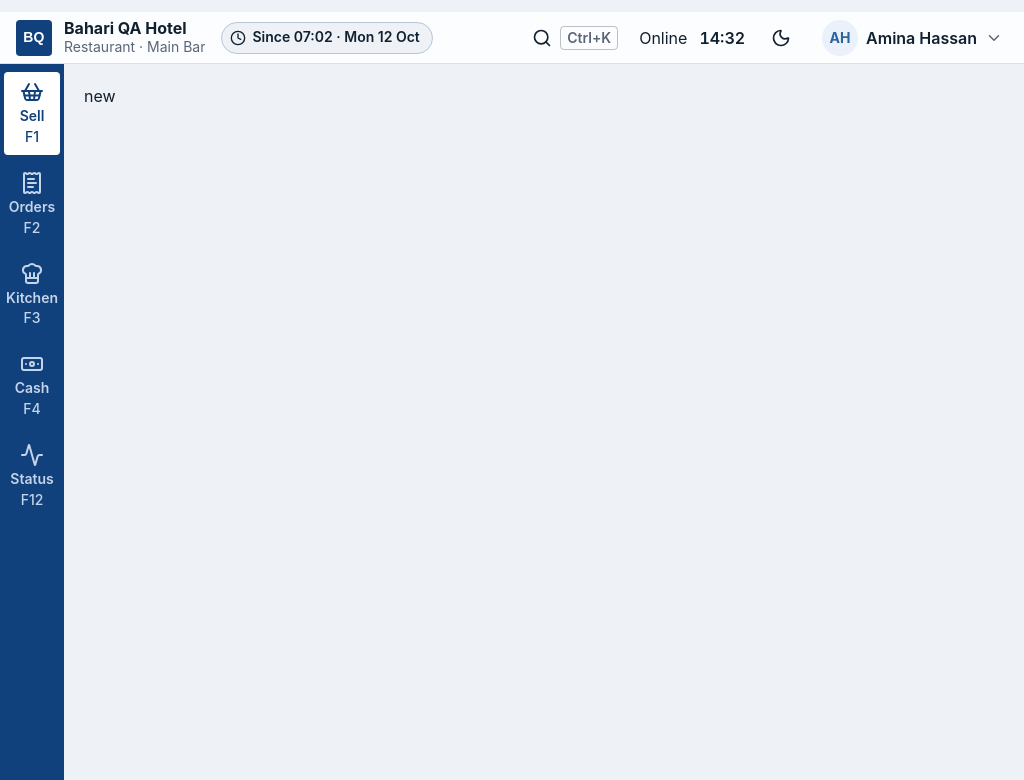
Test: TillShell › moves to a section when its rail item is pressed
This screenshot has width=1024, height=780.
Click the button with test id "nav-orders".
click(32, 204)  # box [4,163,60,246]
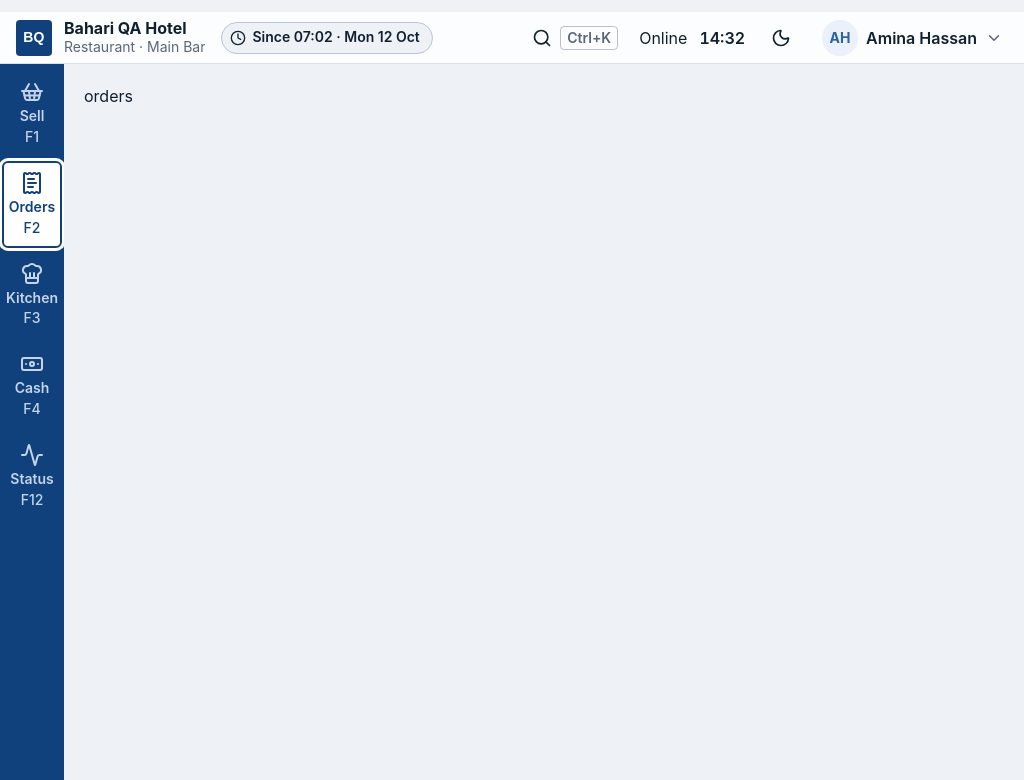
Result: the text with test id "current-page" reads "orders" at [84,86,133,106]
